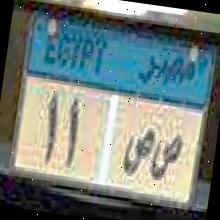1: (58, 93, 85, 170), (34, 90, 62, 163)
saad: (149, 125, 188, 186), (119, 123, 156, 180)
